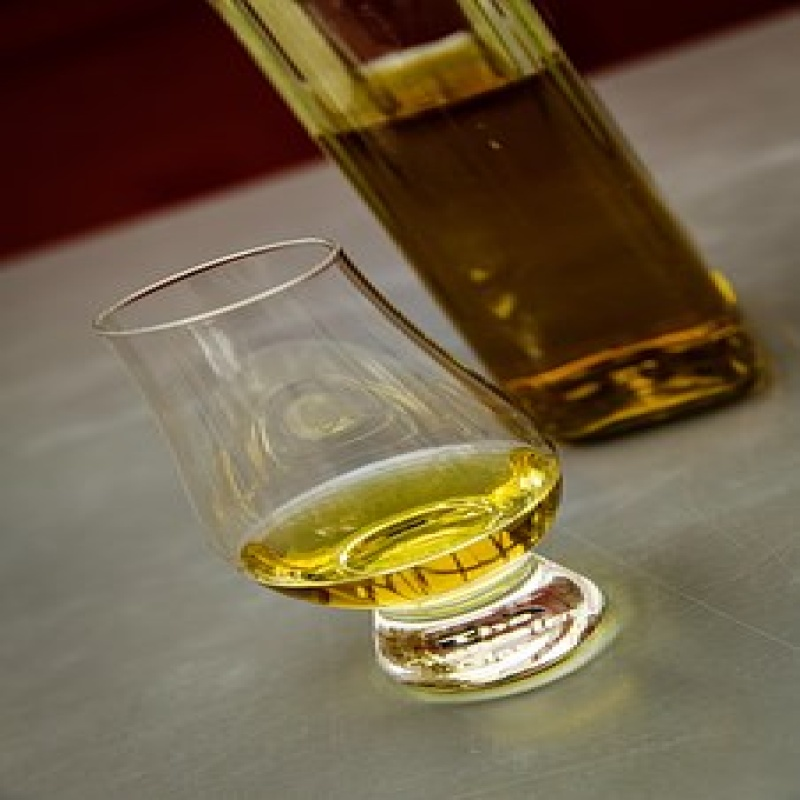whiskey: (76, 209, 612, 684)
